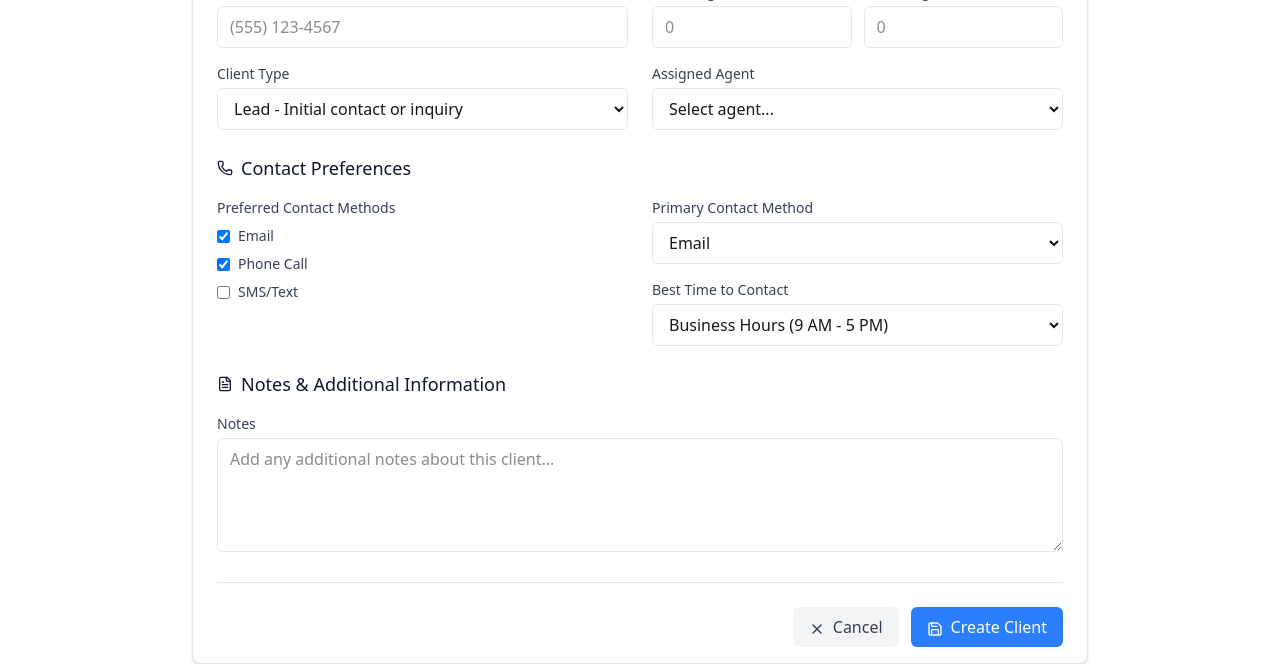
Scenario: ClientForm › Form Interactions › clears validation errors when field is corrected
(page scrolled)
Note: Try to submit to trigger validation
Click the button "Create Client" at (987, 627), box x1=911 y1=607 x2=1063 y2=647
(page scrolled)
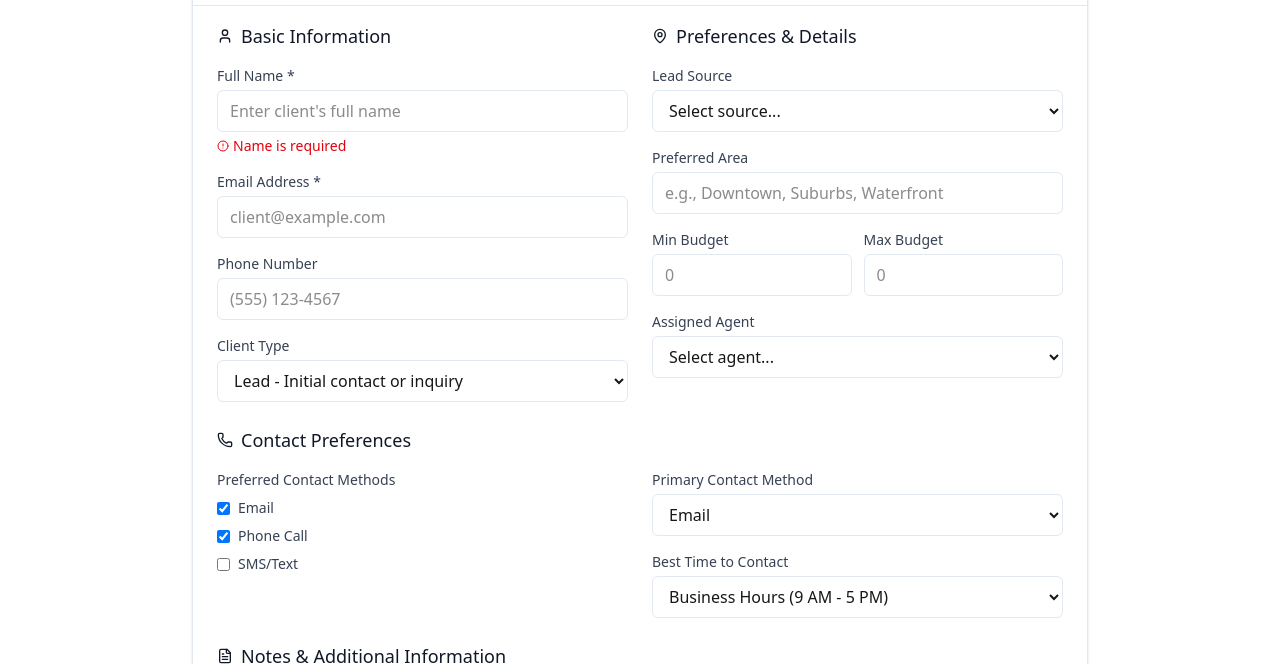
Result: the text "Name is required" is shown at x1=217 y1=136 x2=346 y2=155
Note: Type in the name field
Type "John" into the field labelled "Full Name *" at (422, 111), box x1=217 y1=90 x2=628 y2=132
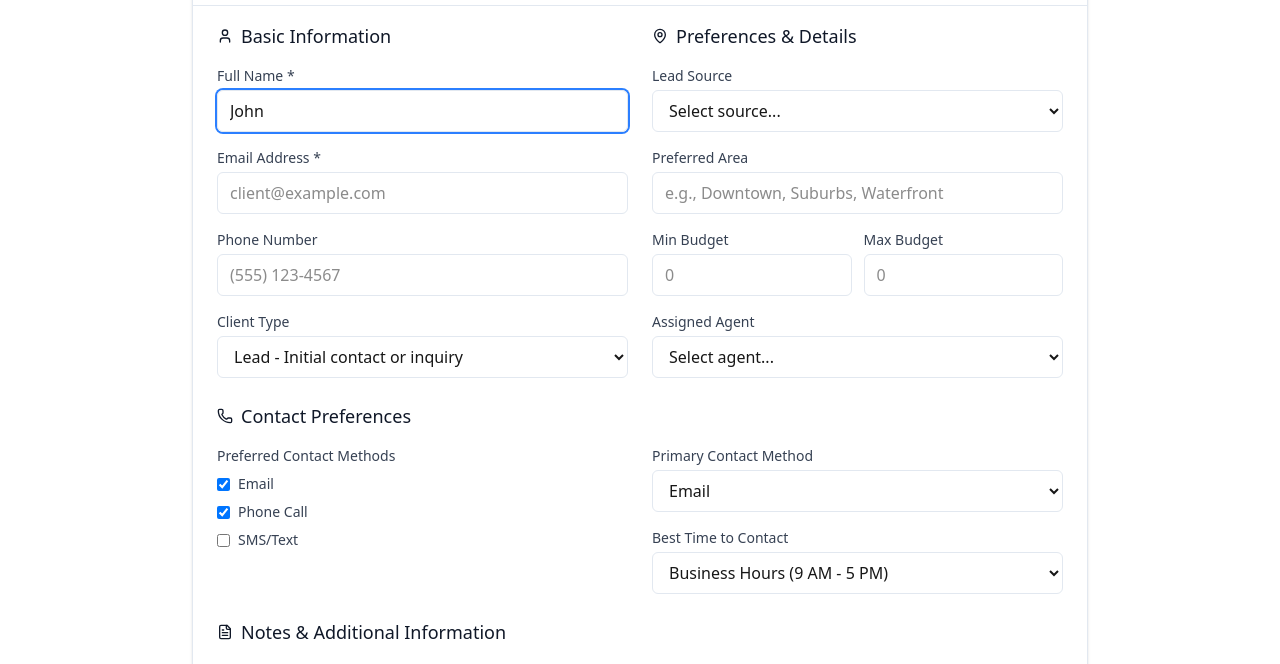
Result: the text "Name is required" is gone
